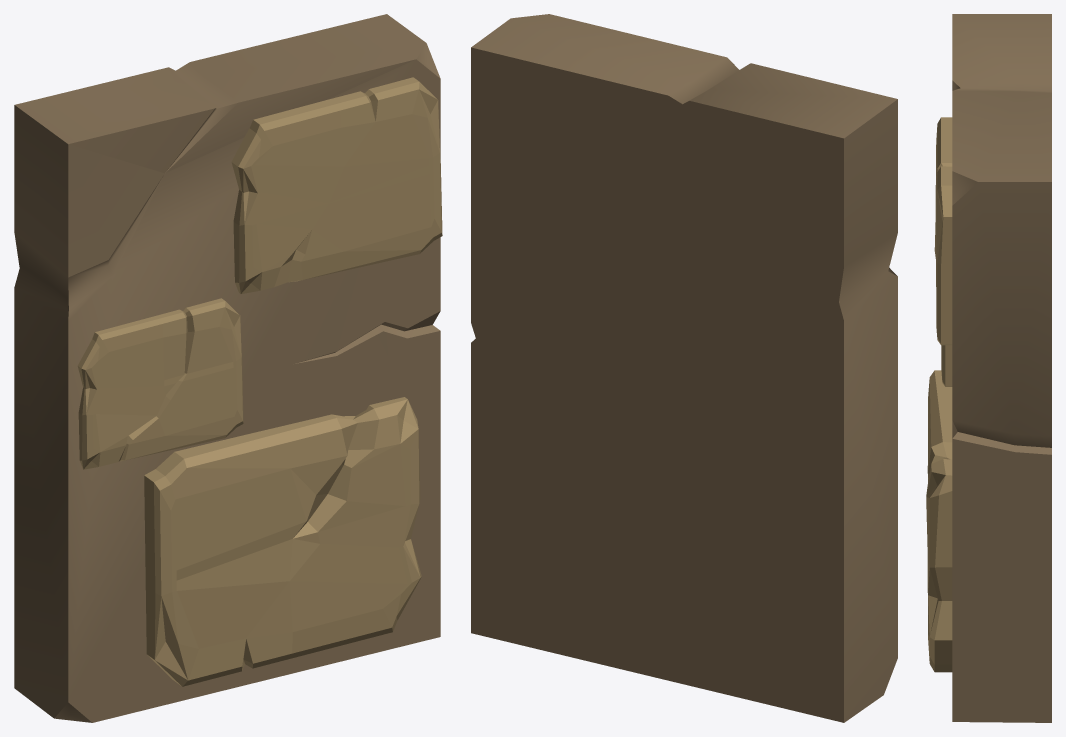
Rendered from Pared-1.FBX.
The picture shows the model from 3 angles, left to right: view 1: azimuth 30°, elevation 25°; view 2: azimuth 150°, elevation 25°; view 3: azimuth 270°, elevation 25°; orthographic projection. The views are drawn at different scales.
Visible parts, largest first — view 1: Pared-1; view 2: Pared-1; view 3: Pared-1.
Part boxes in pixels (left/top/right/bottom): Pared-1: left=14, top=14, right=442, bottom=722; Pared-1: left=471, top=14, right=897, bottom=722; Pared-1: left=926, top=14, right=1051, bottom=722.
Bounding box in the file's own units: 200 × 300 × 63.17.
1 material, 1 textured.
